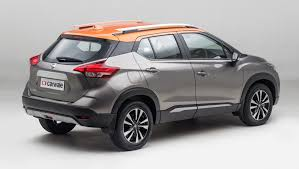Nissan: (28, 26, 273, 126)
